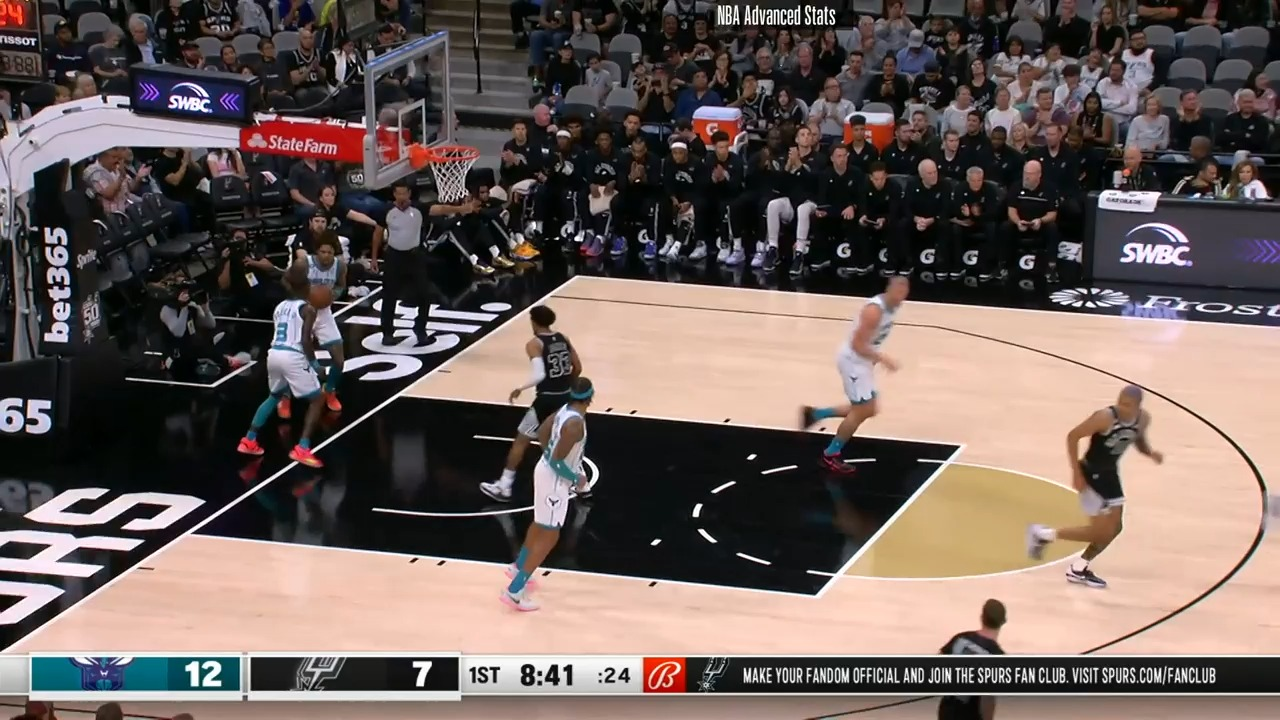net: (408, 137, 482, 204)
player: (1023, 382, 1169, 595), (792, 276, 914, 470), (505, 371, 602, 615), (240, 268, 349, 480), (491, 304, 589, 499), (290, 234, 359, 439)
referee: (366, 180, 438, 352), (923, 598, 1020, 720)
